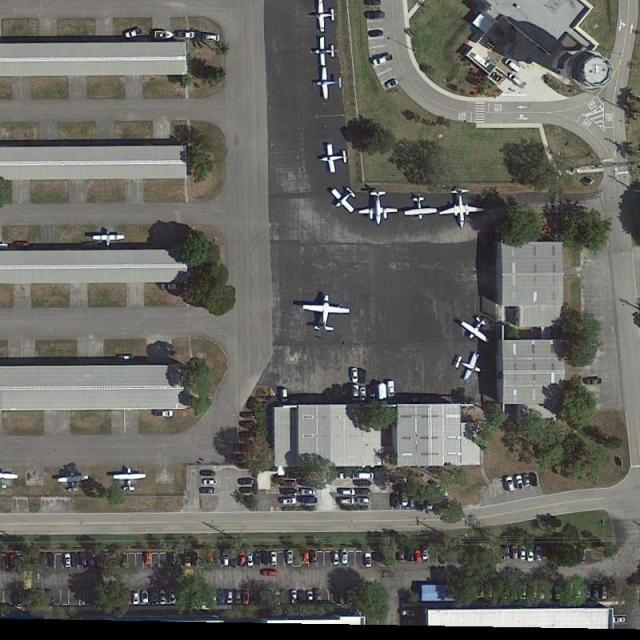vehicle: (372, 52, 395, 68), (123, 26, 145, 40), (432, 482, 450, 499), (505, 58, 522, 74), (508, 72, 524, 87), (502, 581, 514, 600), (238, 420, 257, 431), (505, 476, 517, 493), (366, 10, 386, 20), (354, 478, 374, 488), (11, 588, 22, 606), (384, 78, 400, 90), (386, 380, 396, 399), (583, 377, 604, 386), (202, 33, 222, 42), (351, 384, 361, 402), (158, 589, 169, 605), (177, 30, 196, 39), (46, 553, 56, 570), (519, 582, 528, 600), (566, 583, 575, 601), (161, 282, 179, 291), (364, 552, 374, 568), (154, 410, 174, 418), (350, 368, 360, 384), (298, 496, 318, 504), (575, 584, 584, 601), (516, 475, 525, 492), (526, 546, 535, 563), (401, 489, 410, 506), (397, 547, 406, 564), (261, 569, 278, 578), (238, 477, 255, 486), (240, 486, 257, 495), (299, 487, 316, 496), (530, 583, 540, 598), (530, 472, 539, 488), (78, 553, 87, 569), (230, 550, 238, 568), (339, 471, 355, 480), (168, 590, 178, 604), (546, 583, 554, 600), (554, 584, 562, 601), (368, 30, 385, 38), (242, 588, 250, 605), (38, 553, 46, 570), (71, 553, 79, 570), (200, 470, 217, 478), (426, 493, 434, 510), (406, 546, 414, 563), (414, 546, 422, 563), (281, 488, 298, 496), (538, 584, 546, 600), (535, 546, 543, 562), (234, 590, 242, 606), (306, 590, 314, 606), (314, 590, 322, 606), (64, 554, 72, 570), (222, 551, 230, 567), (410, 492, 418, 508), (282, 389, 290, 405), (504, 546, 512, 562), (239, 552, 247, 568), (246, 552, 254, 568), (254, 551, 262, 567), (262, 551, 270, 567), (333, 551, 341, 567), (144, 552, 153, 566), (400, 609, 414, 618), (14, 241, 32, 248), (392, 494, 401, 508), (356, 472, 374, 479), (612, 616, 627, 624), (226, 589, 234, 604), (184, 552, 192, 567), (142, 589, 150, 604), (218, 589, 226, 604), (298, 590, 306, 605), (203, 478, 218, 486), (422, 546, 430, 561), (340, 498, 355, 506), (270, 551, 278, 566), (286, 550, 294, 565), (342, 550, 350, 565), (341, 488, 356, 496), (199, 487, 216, 494), (239, 412, 256, 419), (520, 544, 527, 561), (523, 474, 531, 488), (274, 591, 282, 605), (291, 590, 298, 606), (356, 488, 370, 496), (281, 498, 297, 505), (586, 586, 593, 601), (210, 589, 217, 604), (283, 590, 290, 605), (121, 553, 128, 568), (357, 496, 372, 503), (132, 592, 140, 605), (170, 553, 178, 566), (118, 354, 131, 362), (310, 550, 318, 563), (601, 586, 608, 600), (594, 586, 601, 600), (512, 546, 519, 560), (303, 552, 310, 566), (364, 1, 382, 6), (192, 552, 198, 567), (361, 386, 366, 402), (126, 592, 132, 605), (347, 591, 353, 604), (339, 590, 345, 603)
